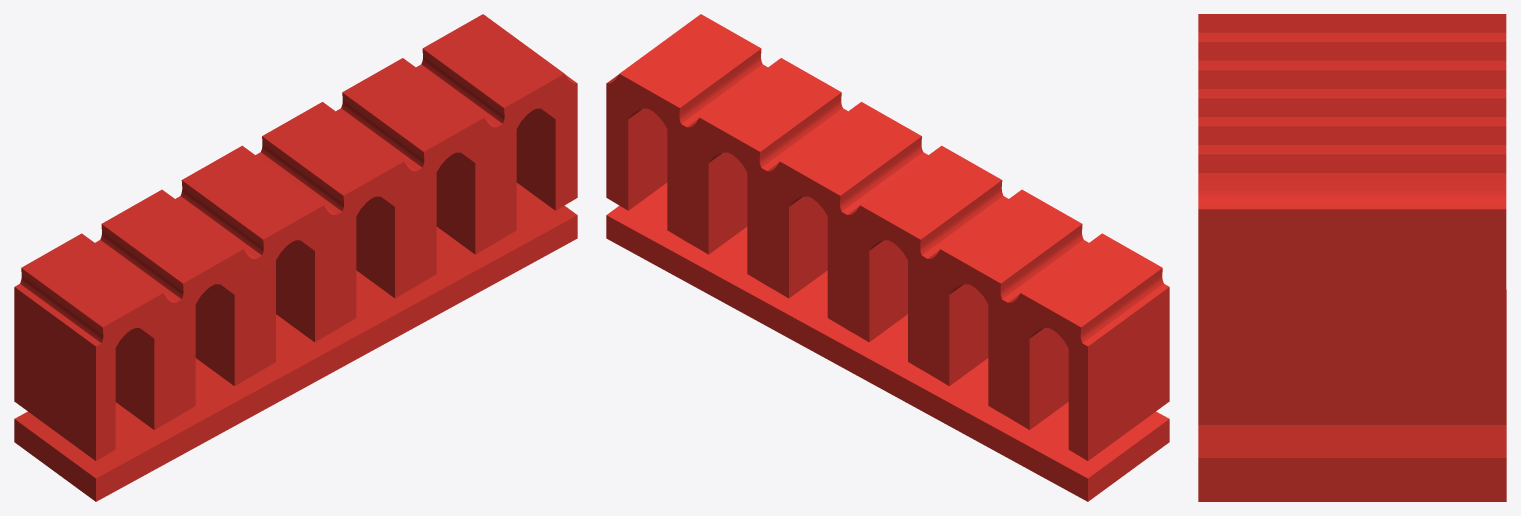
The model's file is SM_BackArch_01.fbx.
The picture shows the model from 3 angles, left to right: view 1: azimuth 30°, elevation 25°; view 2: azimuth 150°, elevation 25°; view 3: azimuth 270°, elevation 25°; orthographic projection. The views are drawn at different scales.
Visible parts, largest first — view 1: SM_BackArch_01; view 2: SM_BackArch_01; view 3: SM_BackArch_01.
Part boxes in pixels (bbox=[...]): SM_BackArch_01: bbox=[14, 14, 577, 501]; SM_BackArch_01: bbox=[606, 14, 1169, 501]; SM_BackArch_01: bbox=[1198, 14, 1506, 501].
Size of the model in its own units: 170 by 106 by 50.02.
